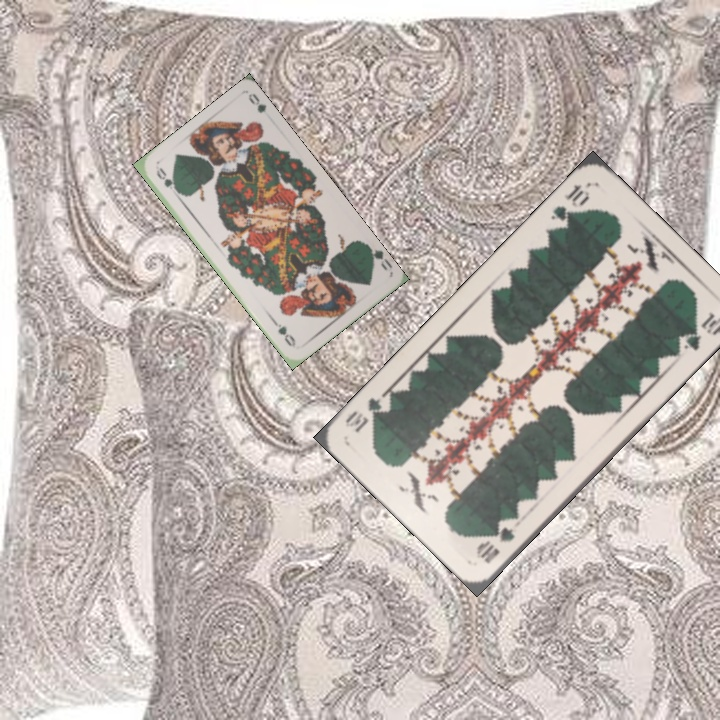G10: (546, 180, 593, 225), (472, 522, 518, 567)
GO: (362, 240, 394, 273), (152, 164, 183, 197)
